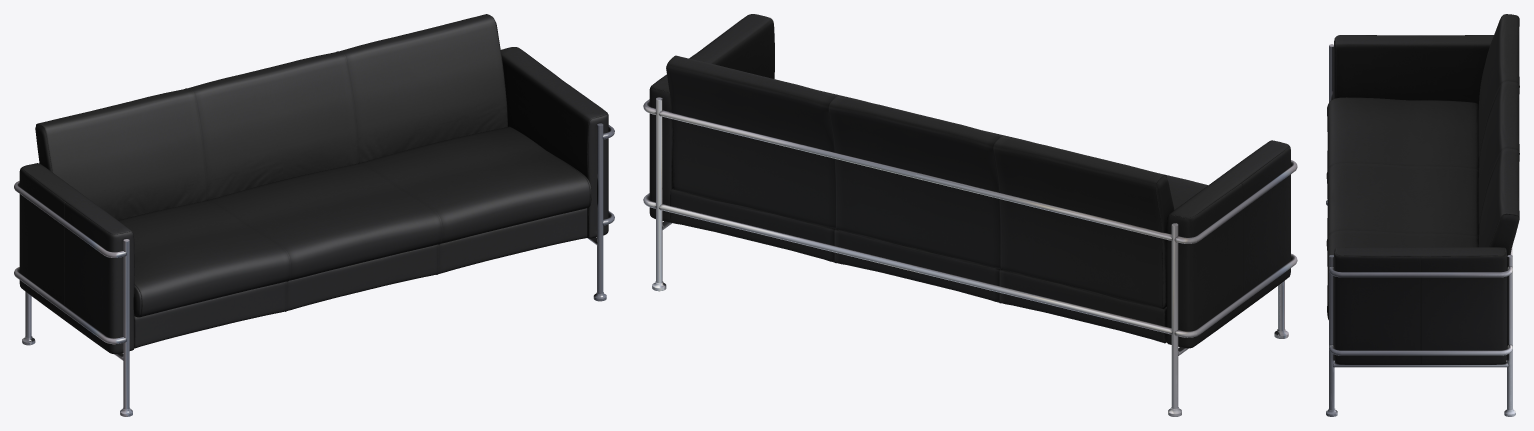
The model's file is solana_iii_white_chrome_plated.glb.
3 renders of one model, left to right at view 1: azimuth 30°, elevation 25°; view 2: azimuth 150°, elevation 25°; view 3: azimuth 270°, elevation 25°, orthographic. The views are drawn at different scales.
Parts seen in each view (by area): view 1: solana_iii-black; view 2: solana_iii-black; view 3: solana_iii-black.
Part boxes in pixels (box(x1,y1,x2,y2)): solana_iii-black: box(14, 14, 614, 416); solana_iii-black: box(643, 14, 1297, 416); solana_iii-black: box(1326, 14, 1519, 416).
Bounding box in the file's own units: 1.89 × 0.7595 × 0.6829.
1 material, 1 textured.
